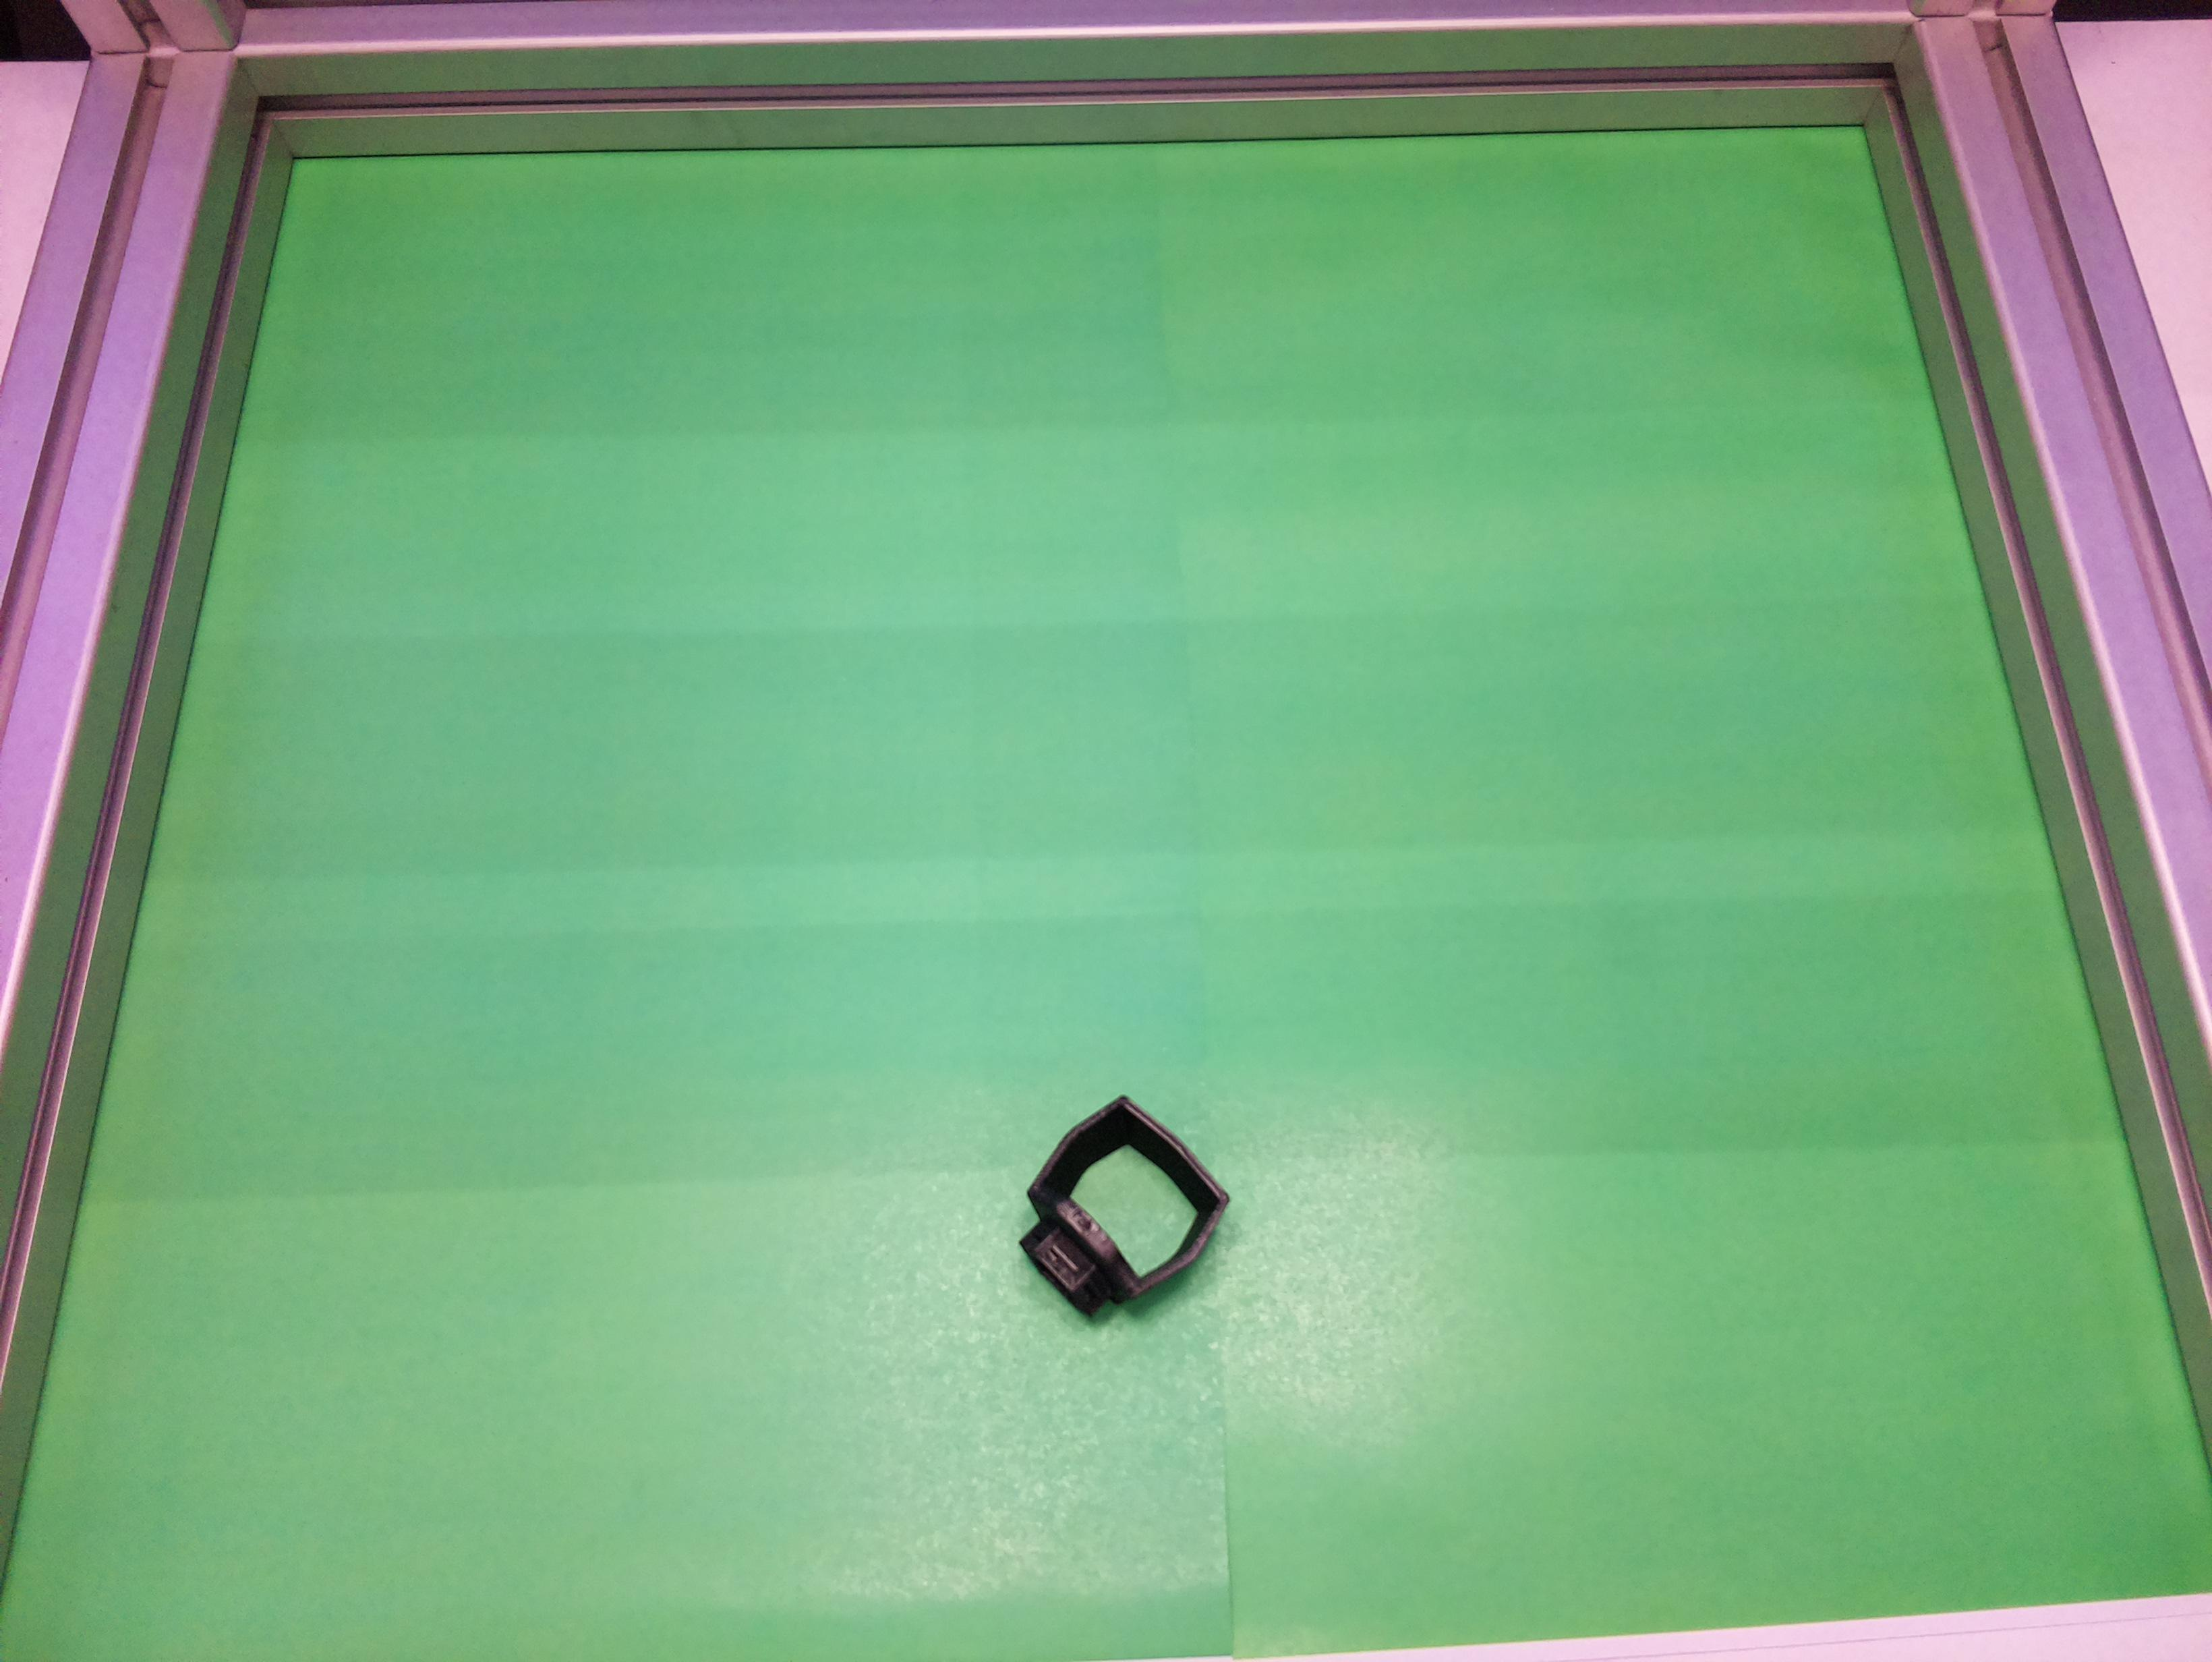scissor_holder: (983, 1079, 1247, 1343)
